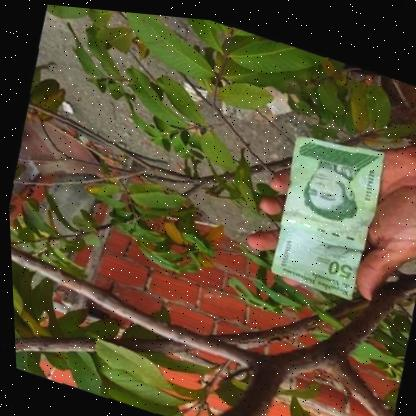fifty-front-vef: (261, 116, 390, 298)
